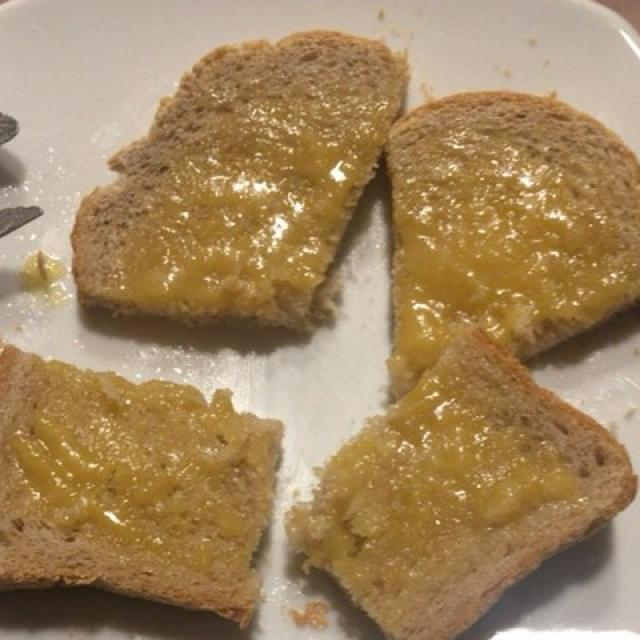bread-whole-wheat: (2, 37, 636, 630)
honey: (20, 96, 634, 584)
